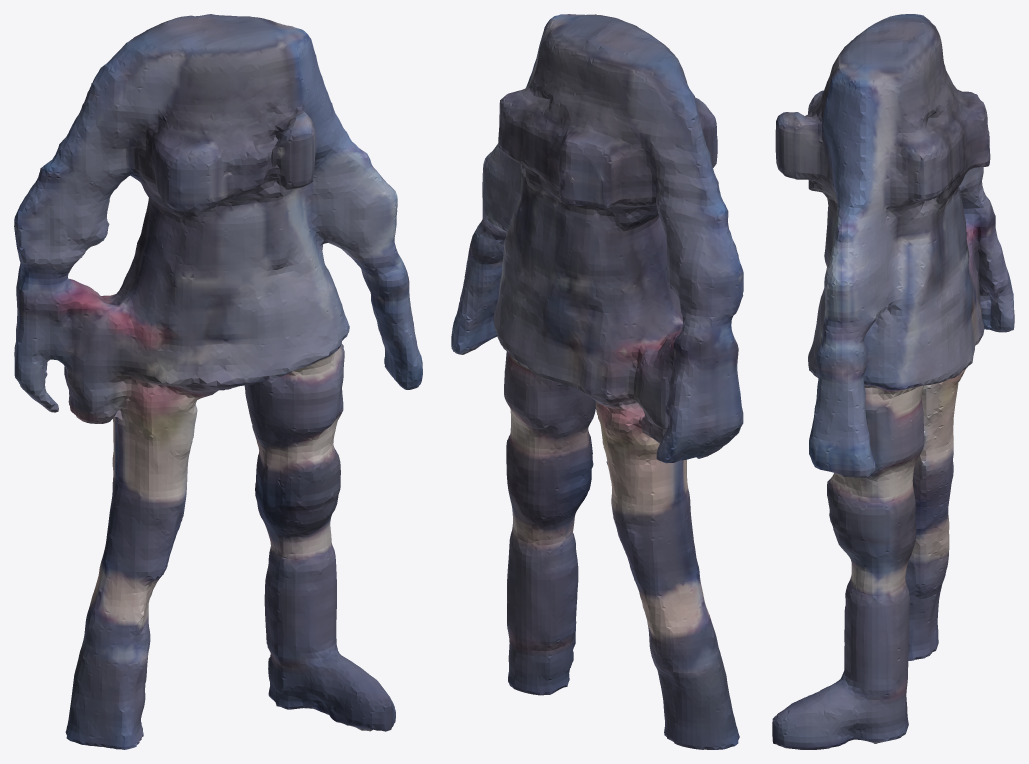
File: anime_tactical_instantmesh.glb
3 views of the same model, side by side, from view 1: azimuth 30°, elevation 25°; view 2: azimuth 150°, elevation 25°; view 3: azimuth 270°, elevation 25° (orthographic). The views are drawn at different scales.
Visible parts, largest first — view 1: world; view 2: world; view 3: world.
Part boxes in pixels (x1,y1,x2,y2): world: [14, 14, 422, 749]; world: [451, 14, 743, 749]; world: [772, 14, 1014, 749].
Bounding box in the file's own units: 1.04 × 1.99 × 0.6619.
